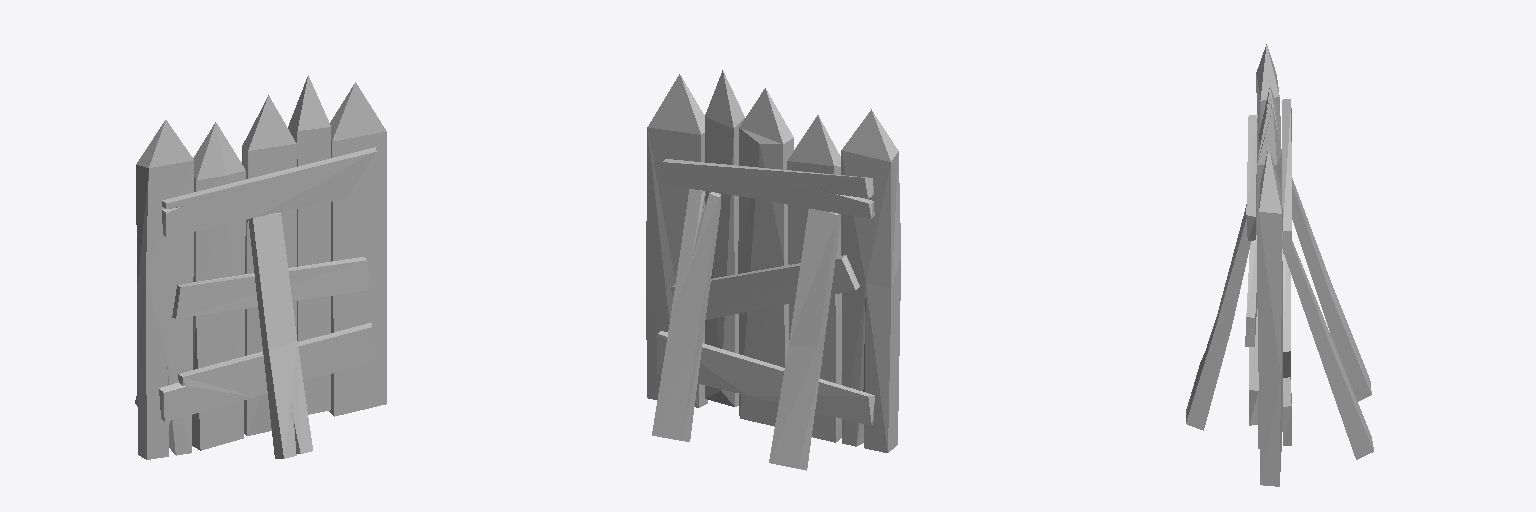
The model's file is M_CaveBarricadeWooden_01.obj.
The picture shows the model from 3 angles: view 1: azimuth 30°, elevation 25°; view 2: azimuth 150°, elevation 25°; view 3: azimuth 270°, elevation 25°; orthographic projection.
Bounding box in the file's own units: 3.8 × 5.14 × 2.55.